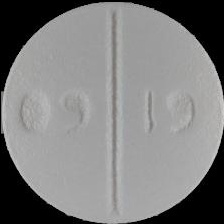43353-652: (0, 0, 224, 224)
